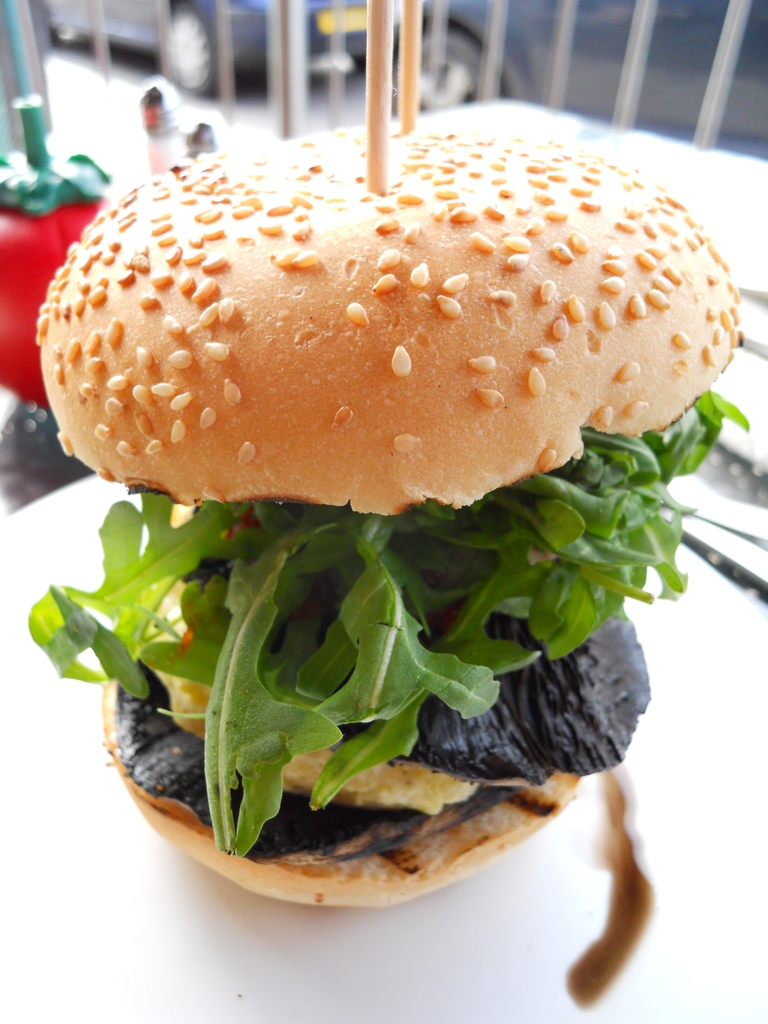Hamburger: (26, 131, 746, 1009)
